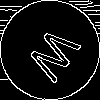W: (25, 25, 90, 90)
